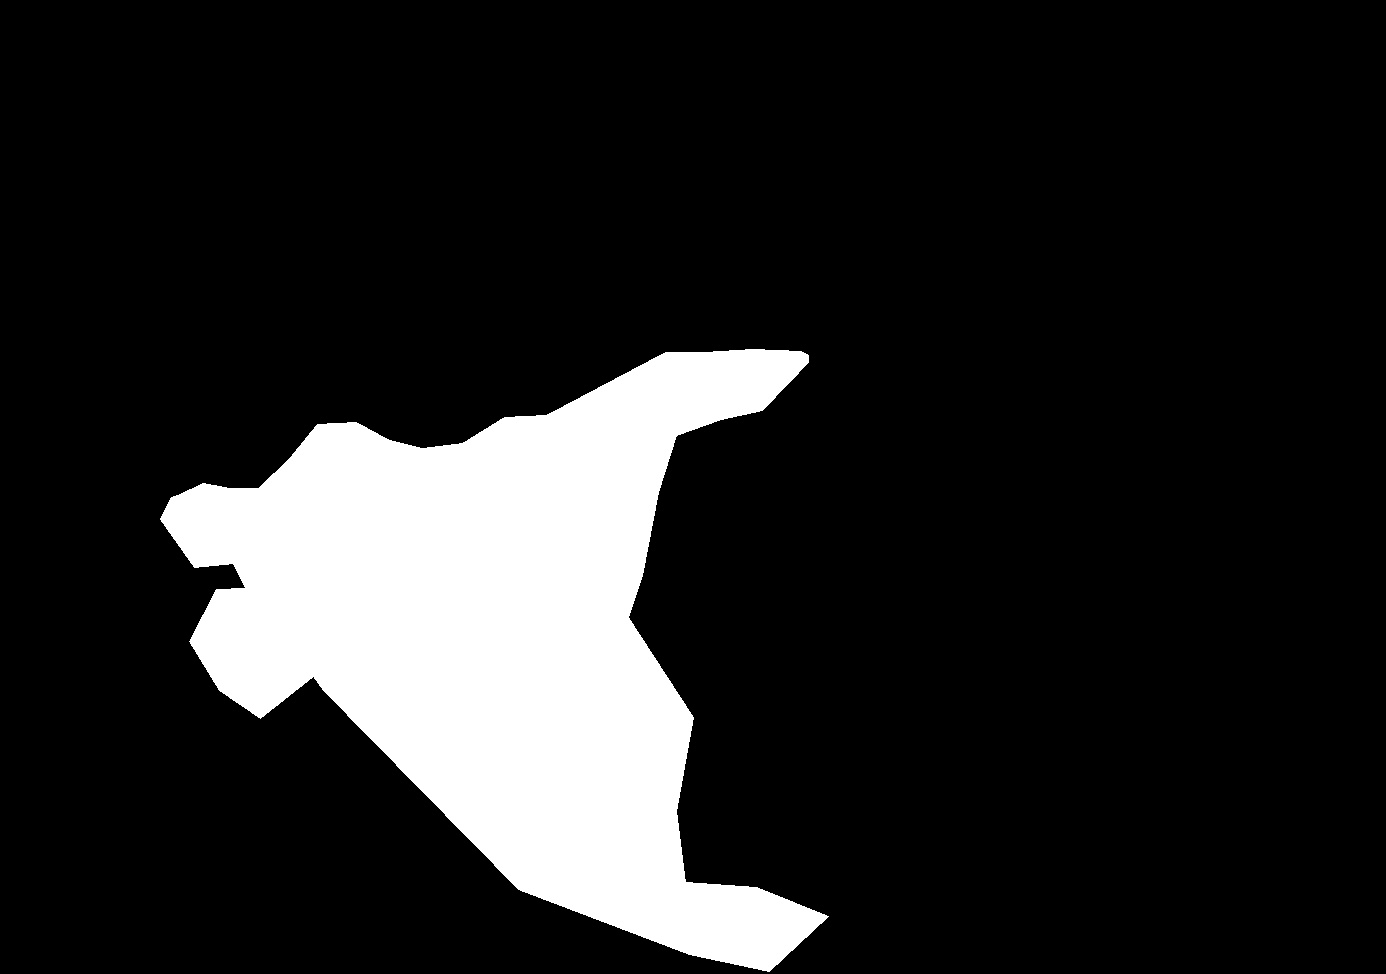Fire: (168, 346, 790, 896)
